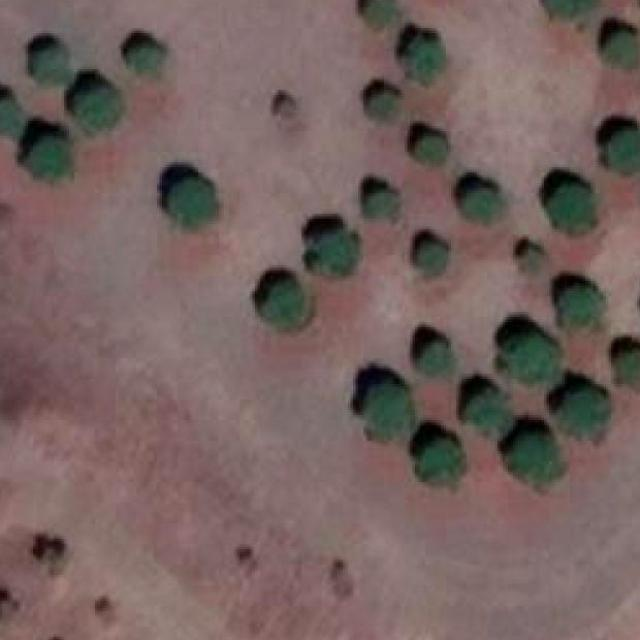Tree: (498, 332, 562, 387), (358, 379, 415, 439), (558, 387, 612, 442), (542, 180, 593, 238), (459, 384, 511, 439), (510, 425, 559, 482), (23, 131, 72, 186), (69, 83, 121, 129), (415, 436, 461, 487), (307, 224, 353, 274), (172, 174, 217, 224), (258, 276, 303, 325), (554, 284, 601, 330), (461, 185, 506, 224), (408, 335, 449, 377), (402, 33, 441, 77), (606, 126, 640, 172), (410, 131, 454, 165), (413, 237, 449, 276), (33, 43, 64, 85), (609, 30, 640, 69), (129, 46, 160, 78), (518, 244, 547, 278), (541, 0, 589, 20), (614, 346, 640, 382), (370, 188, 400, 219), (368, 90, 399, 119), (362, 0, 396, 26), (0, 93, 21, 134), (274, 93, 297, 117)
